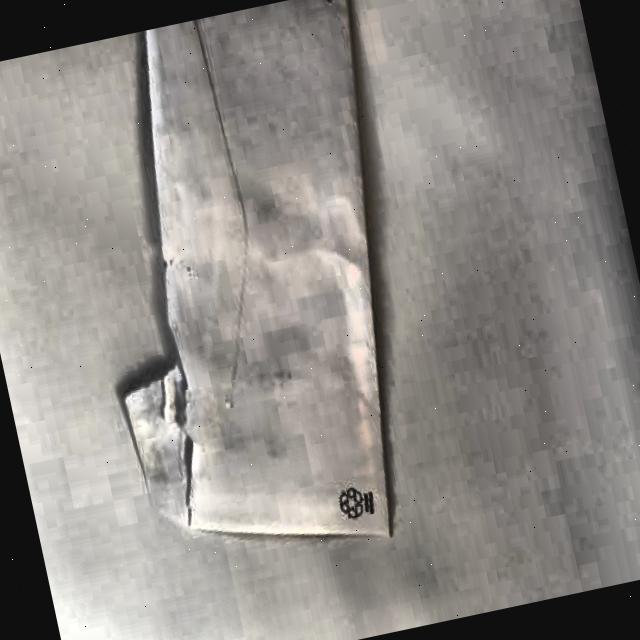paper: (32, 1, 457, 594)
